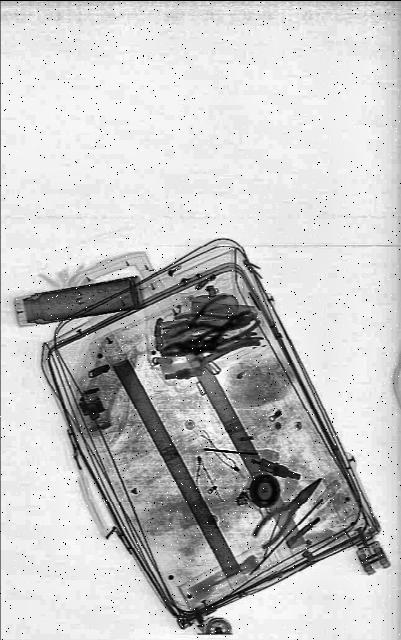Pliers: (160, 288, 238, 349)
Wrench: (189, 324, 259, 374)
